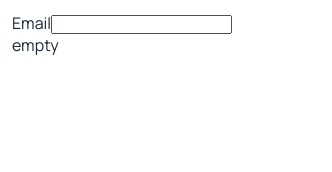
Scenario: UI component tests › updates input value on typing
Type "hello@example.com" into the field labelled "Email" at (142,24), box [51, 15, 232, 34]
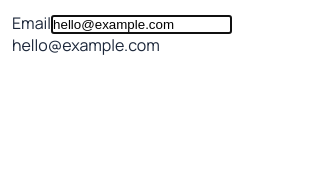
Expected: the text "hello@example.com" is shown, [12, 34, 160, 56]
